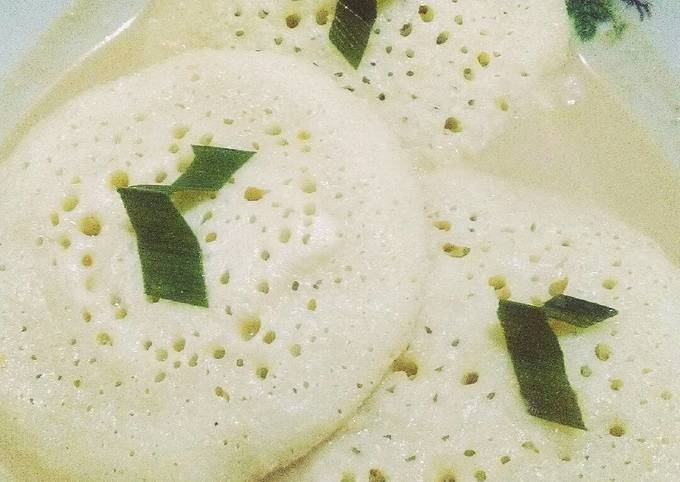srabi: (6, 67, 411, 460)
